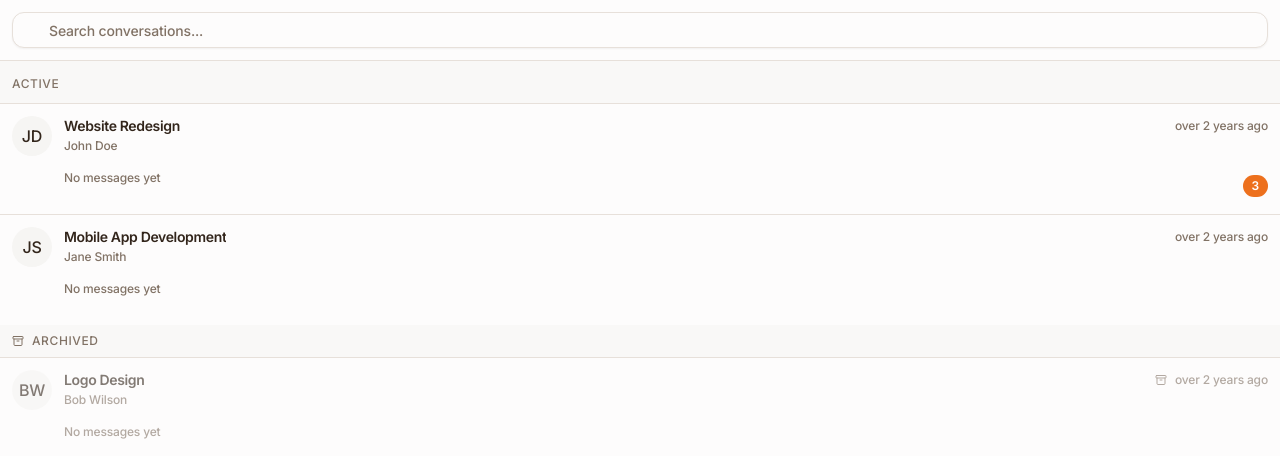
Test: ConversationList › Search/Filter › should show no results message when search has no matches
In the field with placeholder "Search conversations...": (640, 30) [12,12,1268,48], type "nonexistent"
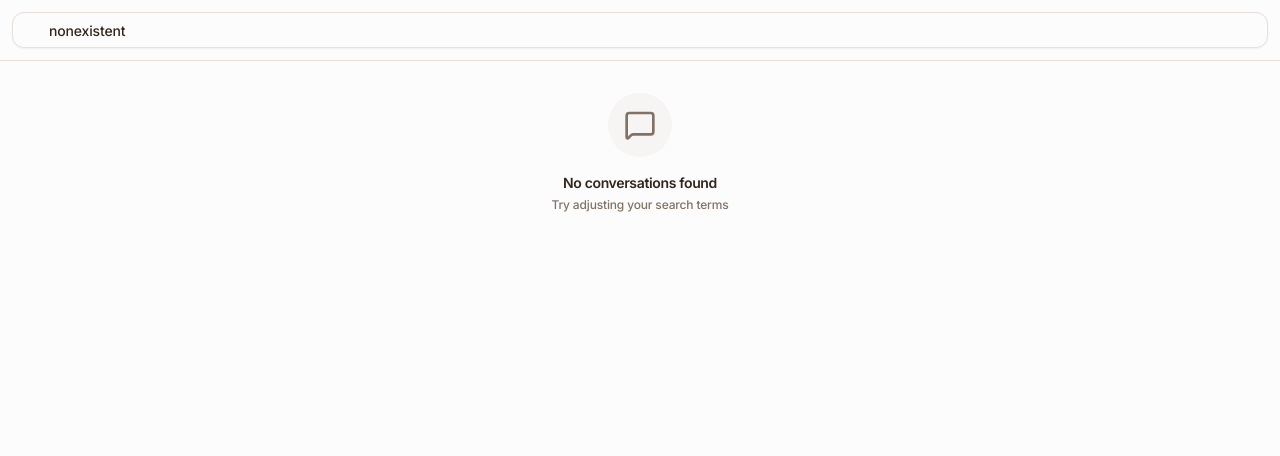
Now the heading "No conversations found" is shown, box [563,173,717,193]
